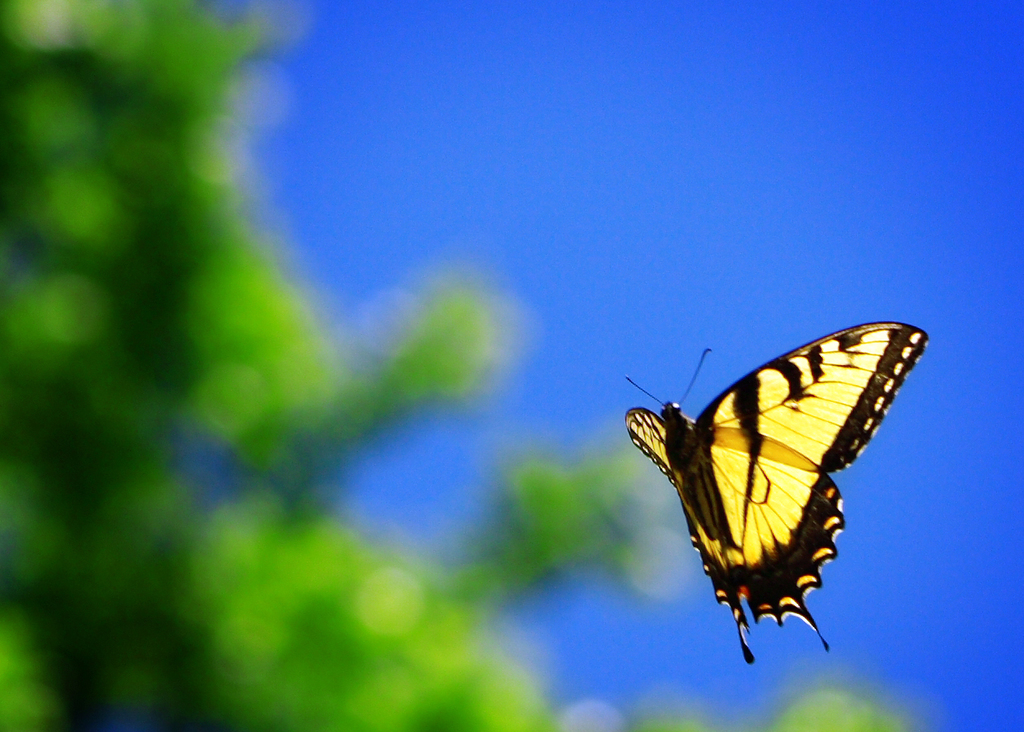Butterfly: (611, 309, 938, 666)
